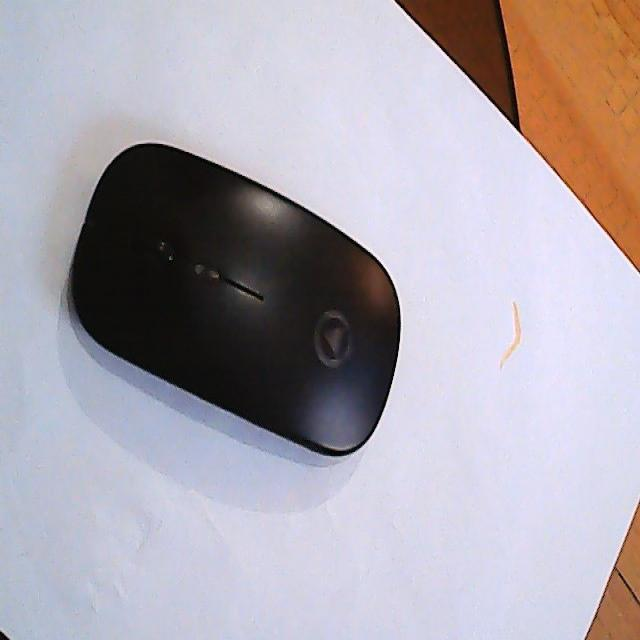mouse: (69, 141, 404, 458)
